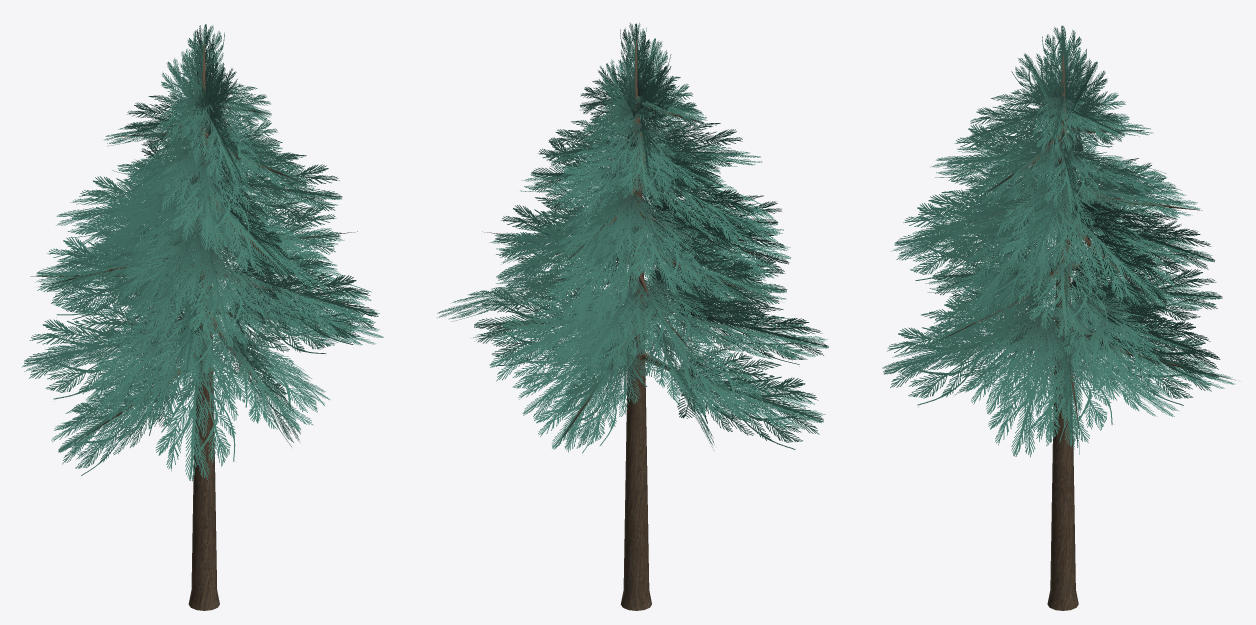
Rendered from BgMD_Tree_c.fbx.
The picture shows the model from 3 angles, left to right: view 1: azimuth 30°, elevation 25°; view 2: azimuth 150°, elevation 25°; view 3: azimuth 270°, elevation 25°; orthographic projection.
Visible parts, largest first — view 1: pCylinder21; view 2: pCylinder21; view 3: pCylinder21.
Part boxes in pixels (x1,y1,x2,y2): pCylinder21: [22, 24, 383, 610]; pCylinder21: [437, 23, 828, 610]; pCylinder21: [882, 25, 1235, 610].
Bounding box in the file's own units: 1722 × 2720 × 1586.
